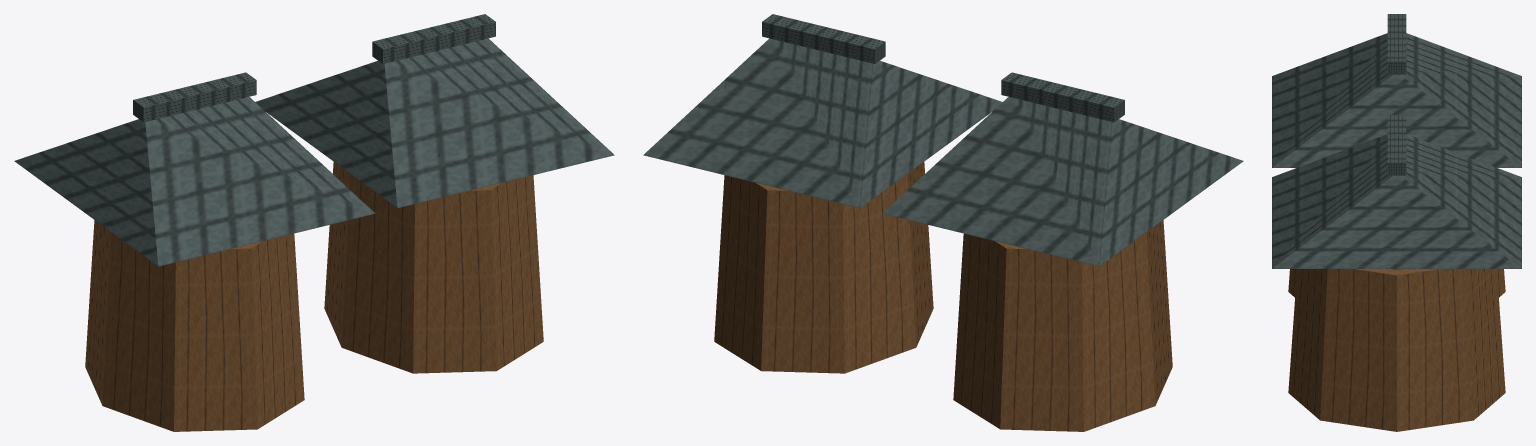
The model's file is domestic-GRANARY-1-lod2.glb.
3 views of the same model, side by side, from view 1: azimuth 30°, elevation 25°; view 2: azimuth 150°, elevation 25°; view 3: azimuth 270°, elevation 25° (orthographic). The views are drawn at different scales.
Bounding box in the file's own units: 0.84 × 0.516 × 0.46.
Materials: 1 (1 with a texture image).
